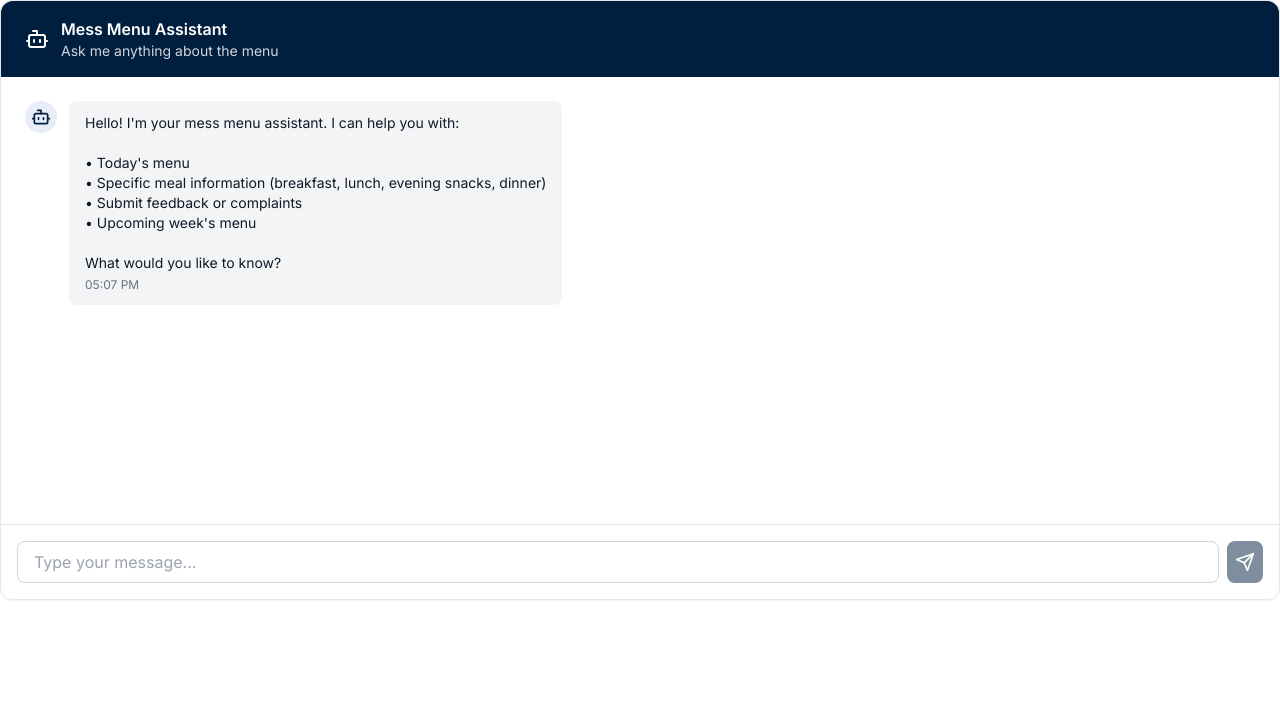
it: Chatbot › falls back to deterministic reply when Gemini fails
In the field with placeholder "Type your message...": (618, 562) [17,541,1219,583], type "Need help with food options"
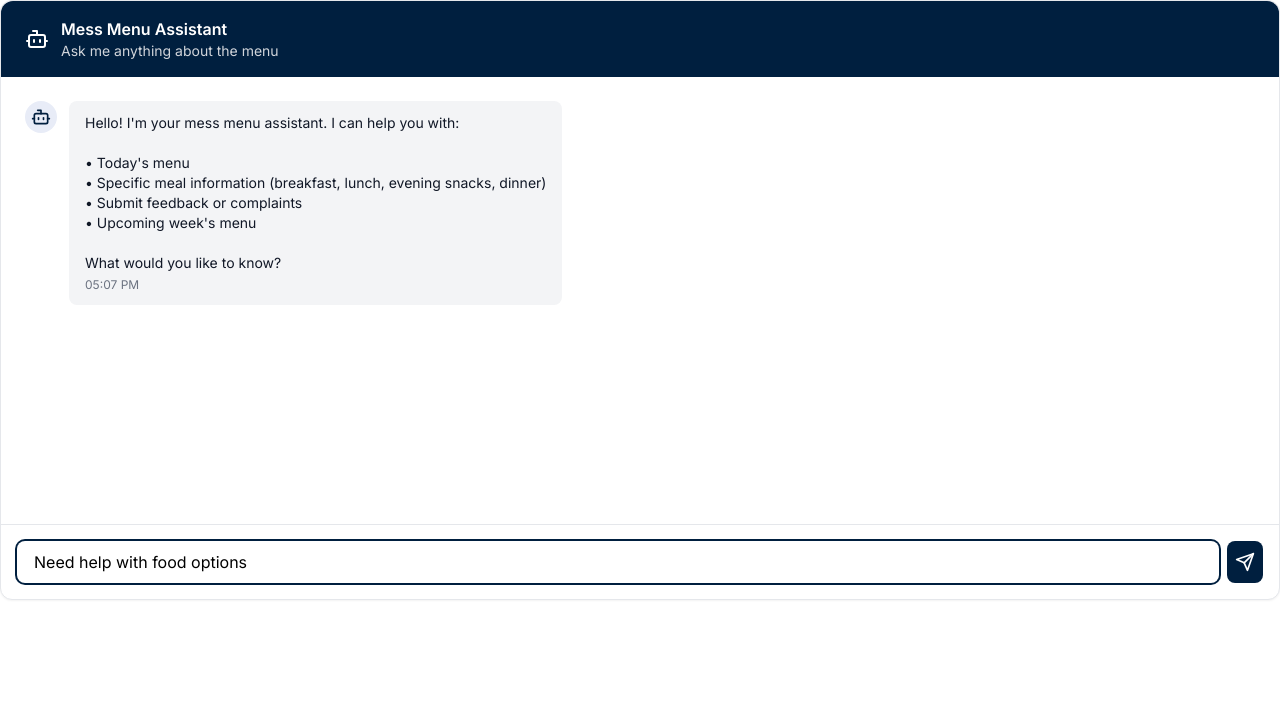
Click the button: (1245, 562) [1227,541,1263,583]
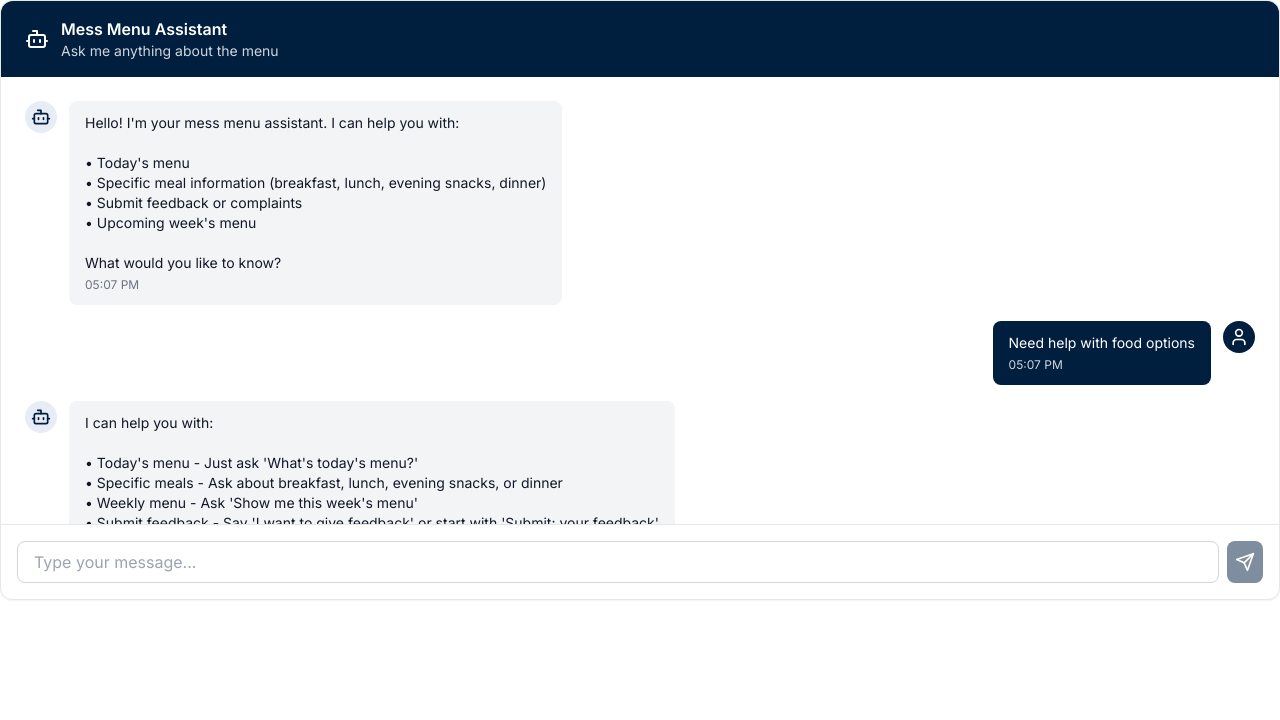
Check: the text "Submit feedback - Say" is shown, box [85,414,659,524]
